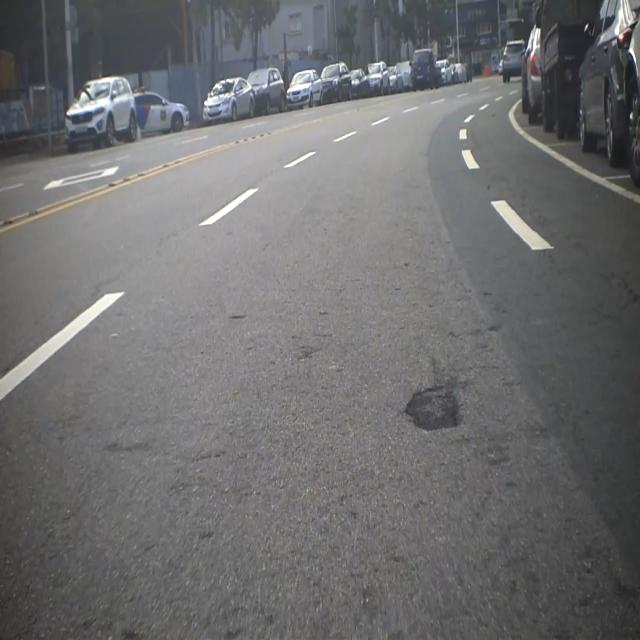Pothole: (391, 366, 470, 438)
